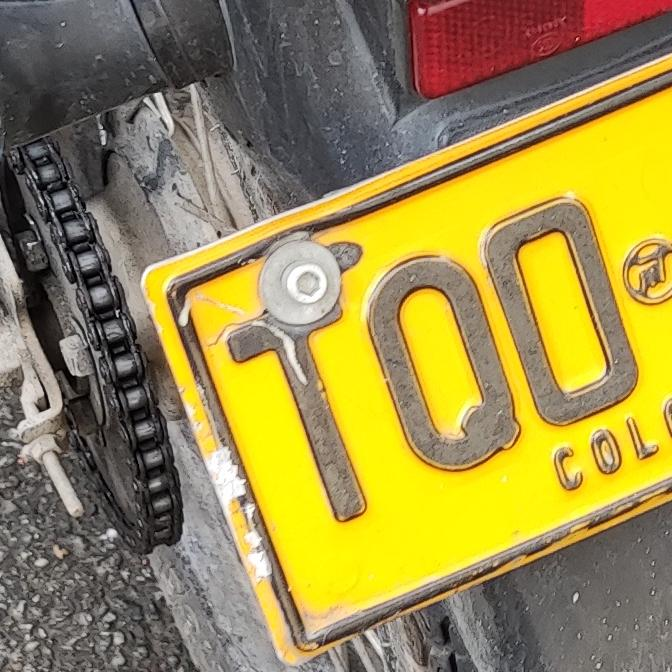plates: (126, 48, 672, 672)
